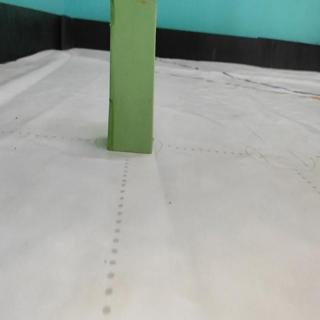greenbox: (109, 2, 157, 153)
